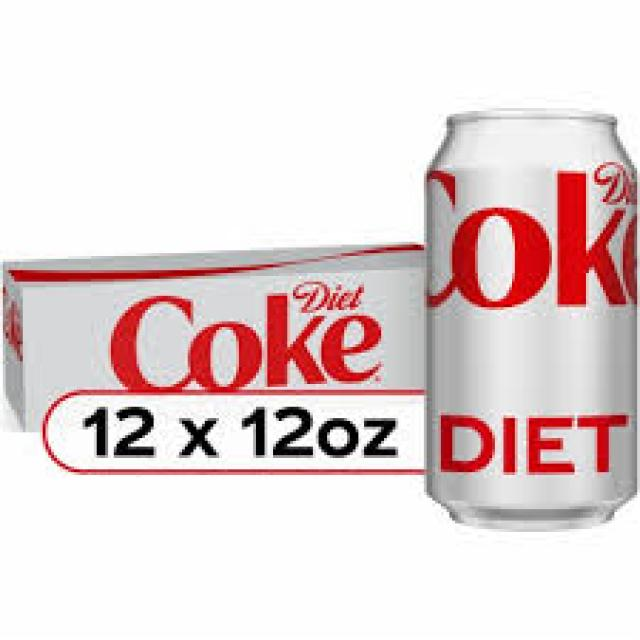Cans: (415, 94, 640, 535)
